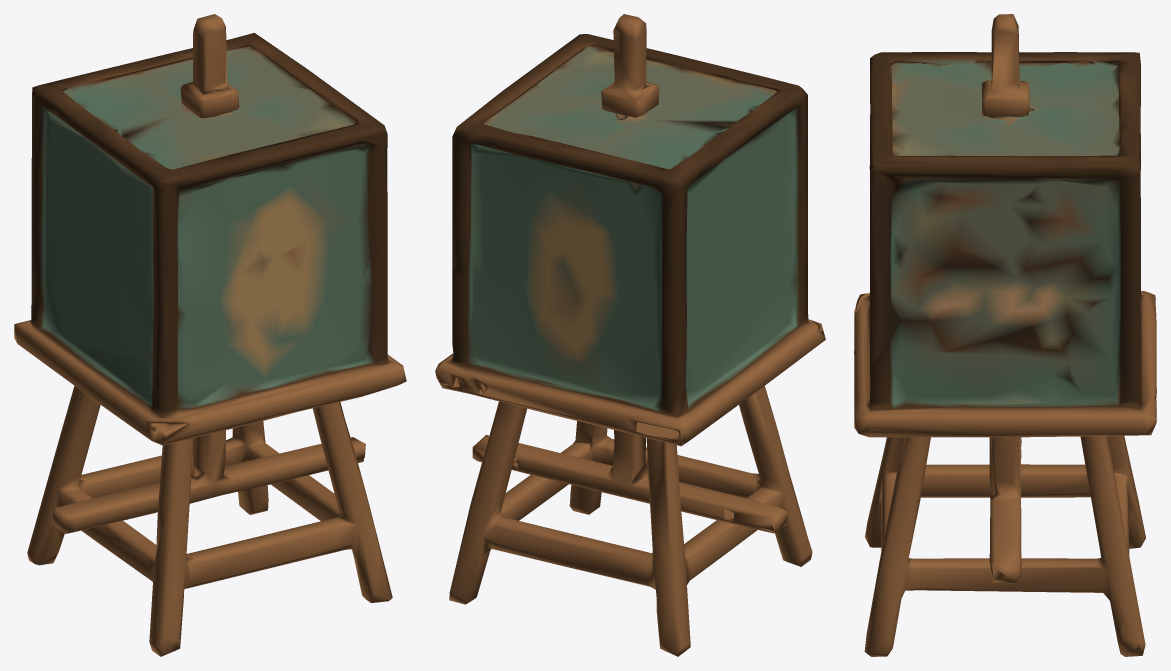
File: gen3d-easel-lod0.glb
3 views of the same model, side by side, from view 1: azimuth 30°, elevation 25°; view 2: azimuth 150°, elevation 25°; view 3: azimuth 270°, elevation 25° (orthographic). The views are drawn at different scales.
Visible parts, largest first — view 1: part_0; view 2: part_0; view 3: part_0.
Boxes of the visible parts, box(x1,y1,x2,y2) form: part_0: box(14, 14, 406, 656); part_0: box(435, 14, 825, 656); part_0: box(854, 14, 1156, 656).
Size of the model in its own units: 0.5661 by 0.9994 by 0.4707.
